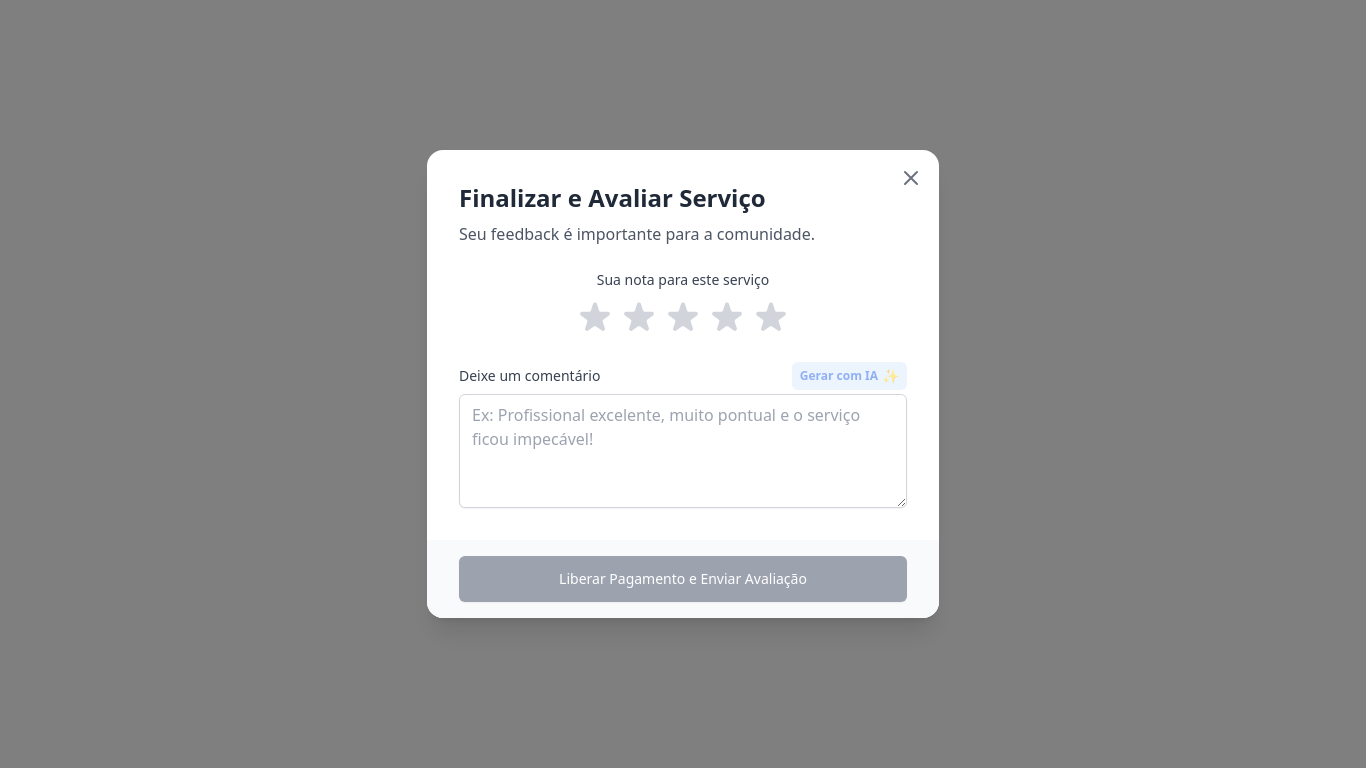
Test case: ReviewModal › exibe erro quando IA falha ao gerar comentário
Note: Seleciona rating
Click the 4th icon with class "cursor-pointer". click: x=727, y=318
box: [707,298,747,338]
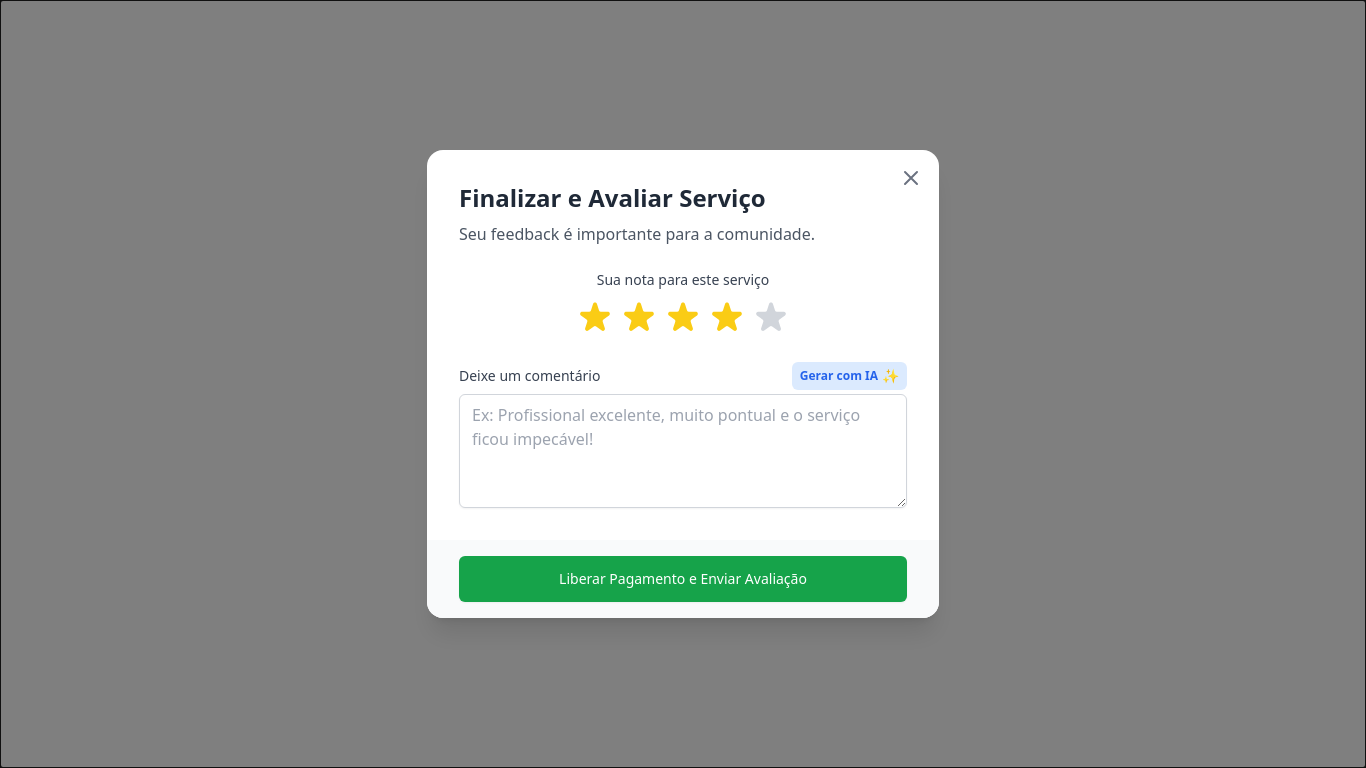
Note: Tenta gerar com IA
Click the button "Gerar com IA ✨". click: x=849, y=376
box: [792,362,907,390]
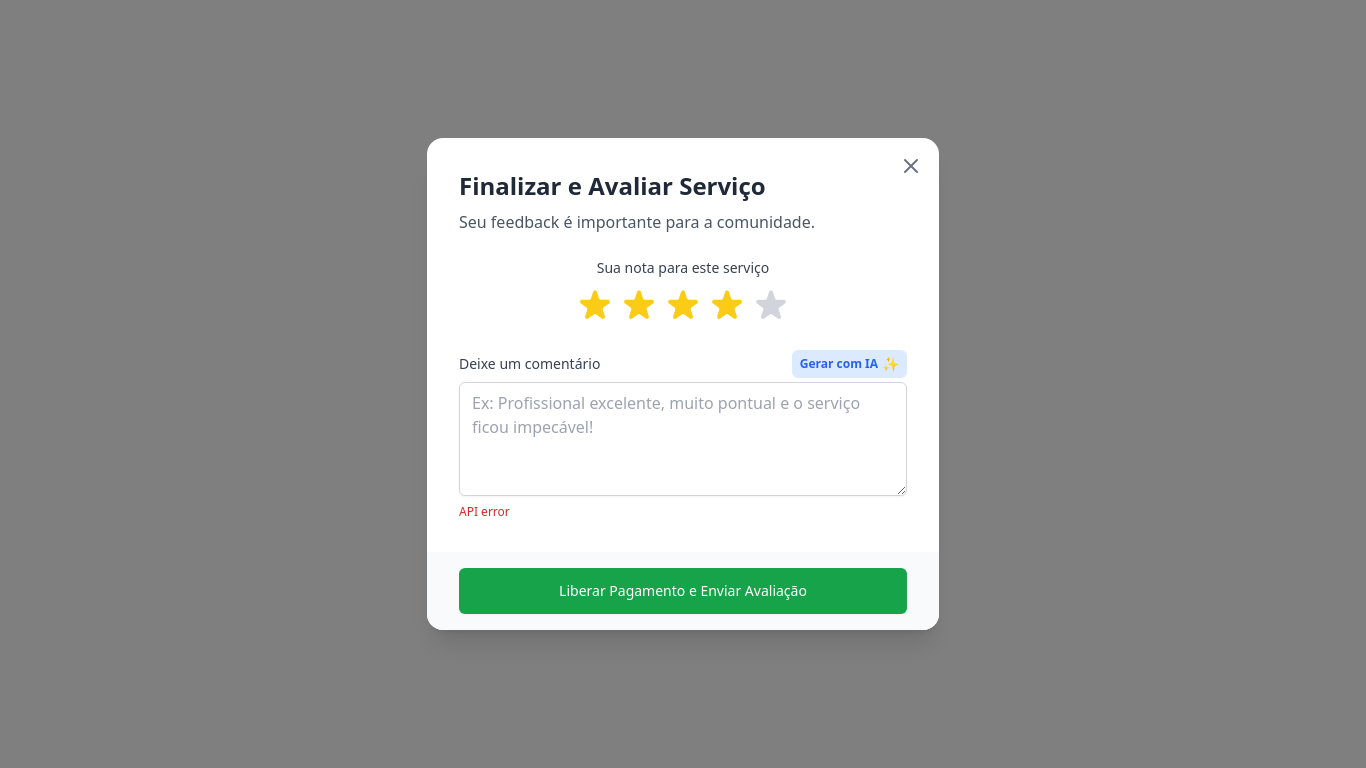
expect the text "API error" is shown: met, box [459,503,510,520]
